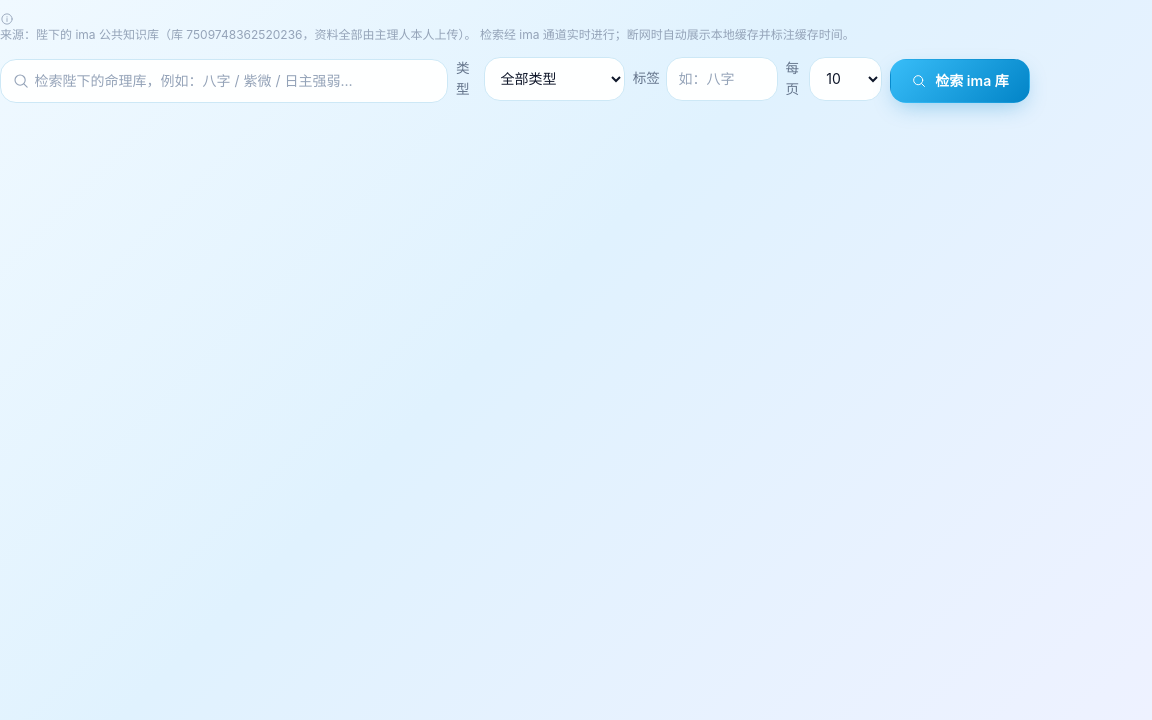
Test: ImaPanel › 离线缓存结果显示横幅，不冒充实时
Type "八字" into the field named "ima 检索词" at [224, 81], box [0,59,448,103]
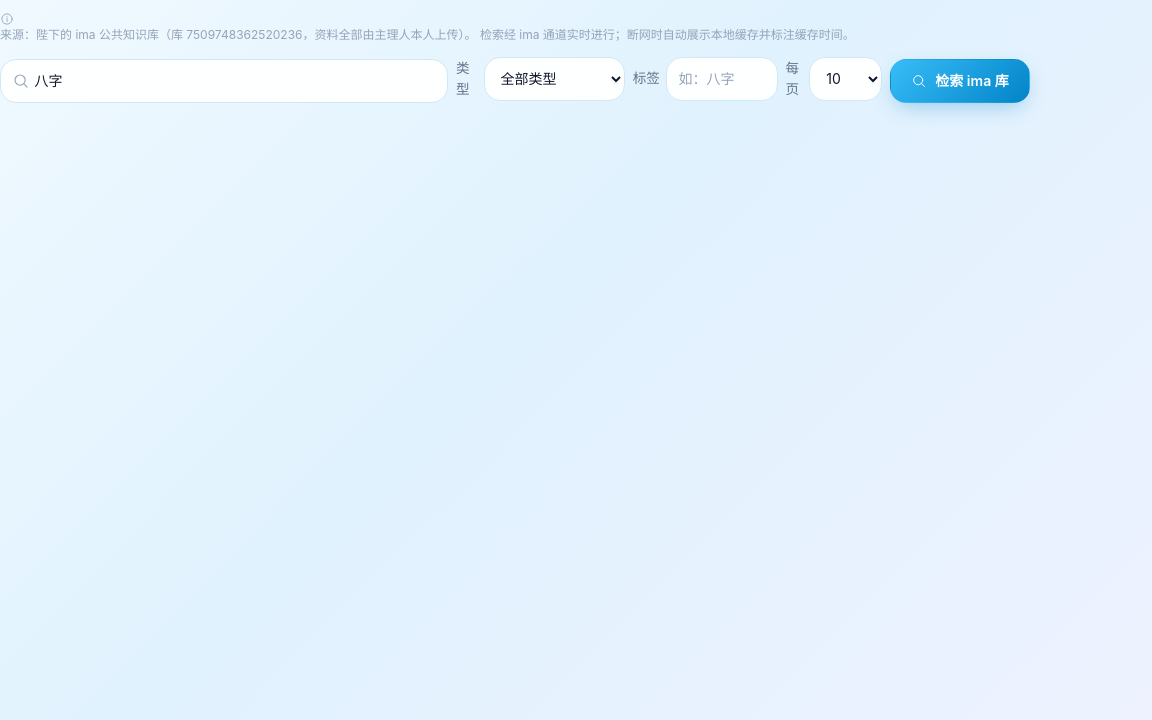
Click the button with test id "ima-search-btn" at [960, 81], box [890,59,1030,103]
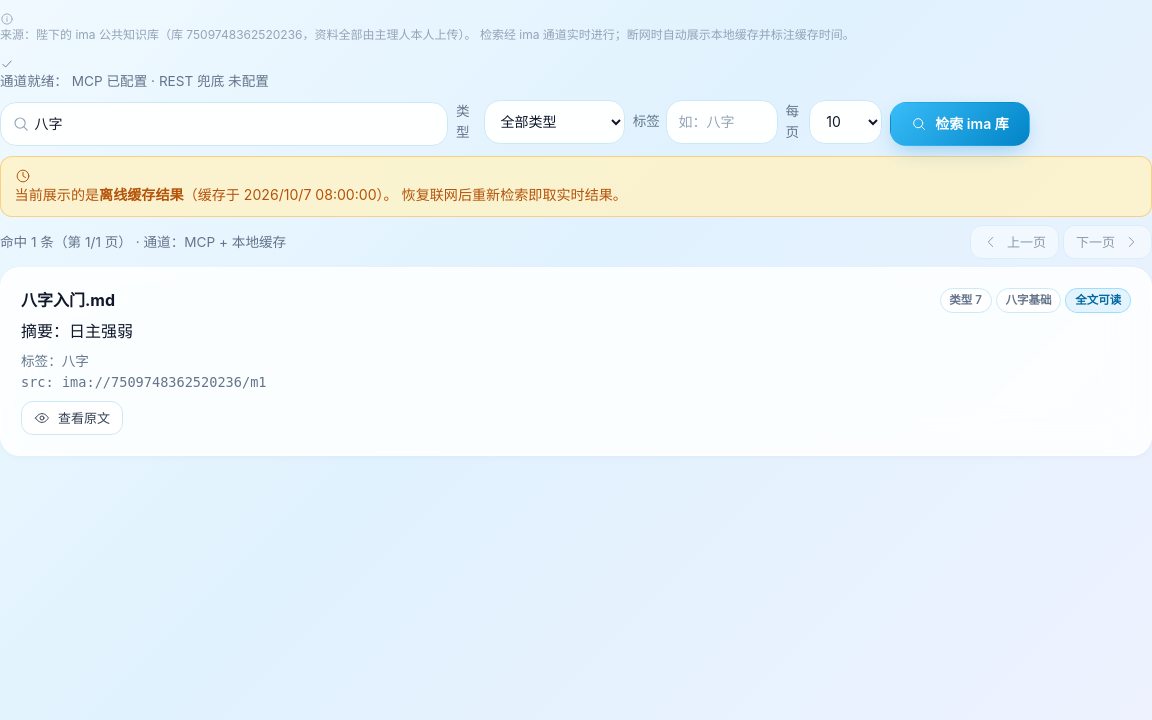
Result: the message with test id "ima-cache-banner" is shown at [0,156,1151,217]
